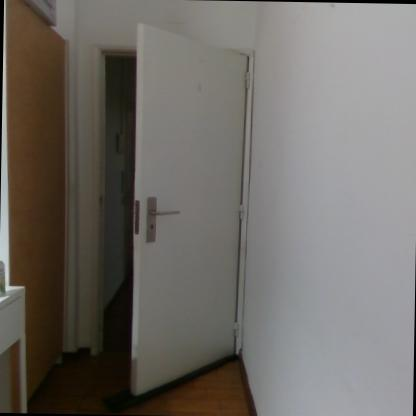semi: (63, 27, 258, 400)
